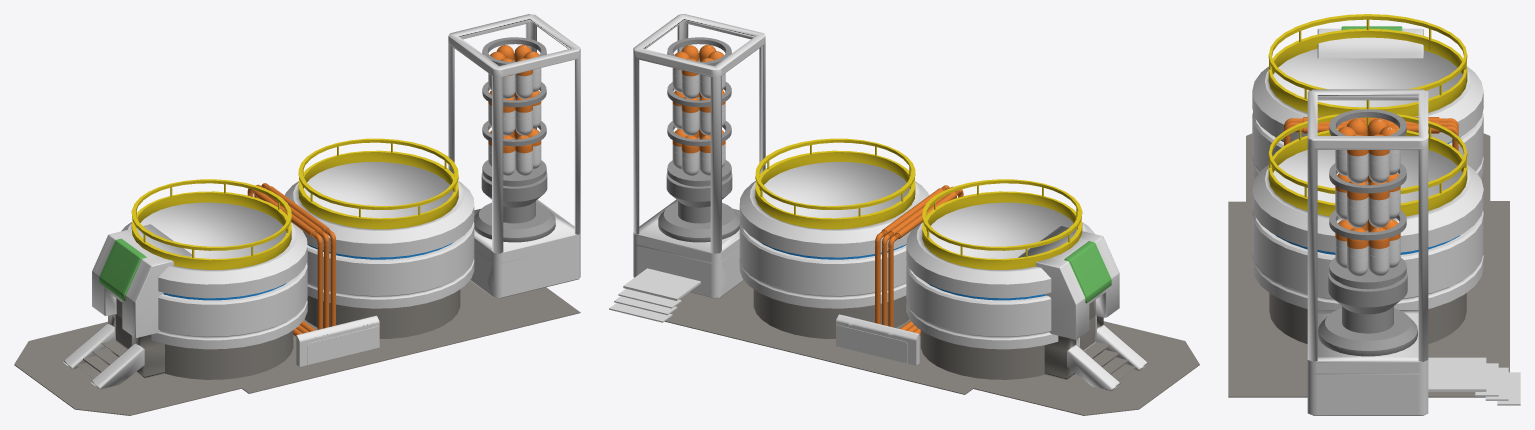
File: Manufacturing_Hub.fbx
The picture shows the model from 3 angles, left to right: view 1: azimuth 30°, elevation 25°; view 2: azimuth 150°, elevation 25°; view 3: azimuth 270°, elevation 25°; orthographic projection. The views are drawn at different scales.
Visible parts, largest first — view 1: Slice.003; view 2: Slice.003; view 3: Slice.003.
Boxes of the visible parts, x1,y1,x2,y2 form: Slice.003: [14, 14, 580, 415]; Slice.003: [609, 14, 1199, 415]; Slice.003: [1228, 14, 1520, 415].
Bounding box in the file's own units: 18.64 × 8.14 × 7.62.
